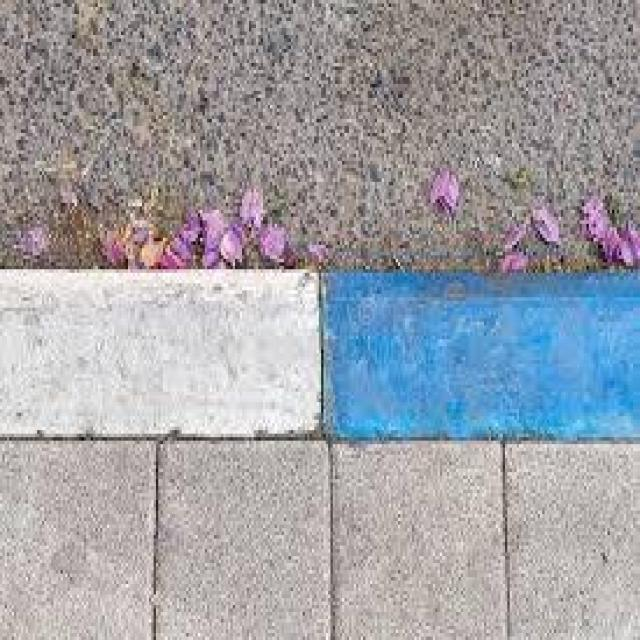curb: (1, 262, 640, 447)
